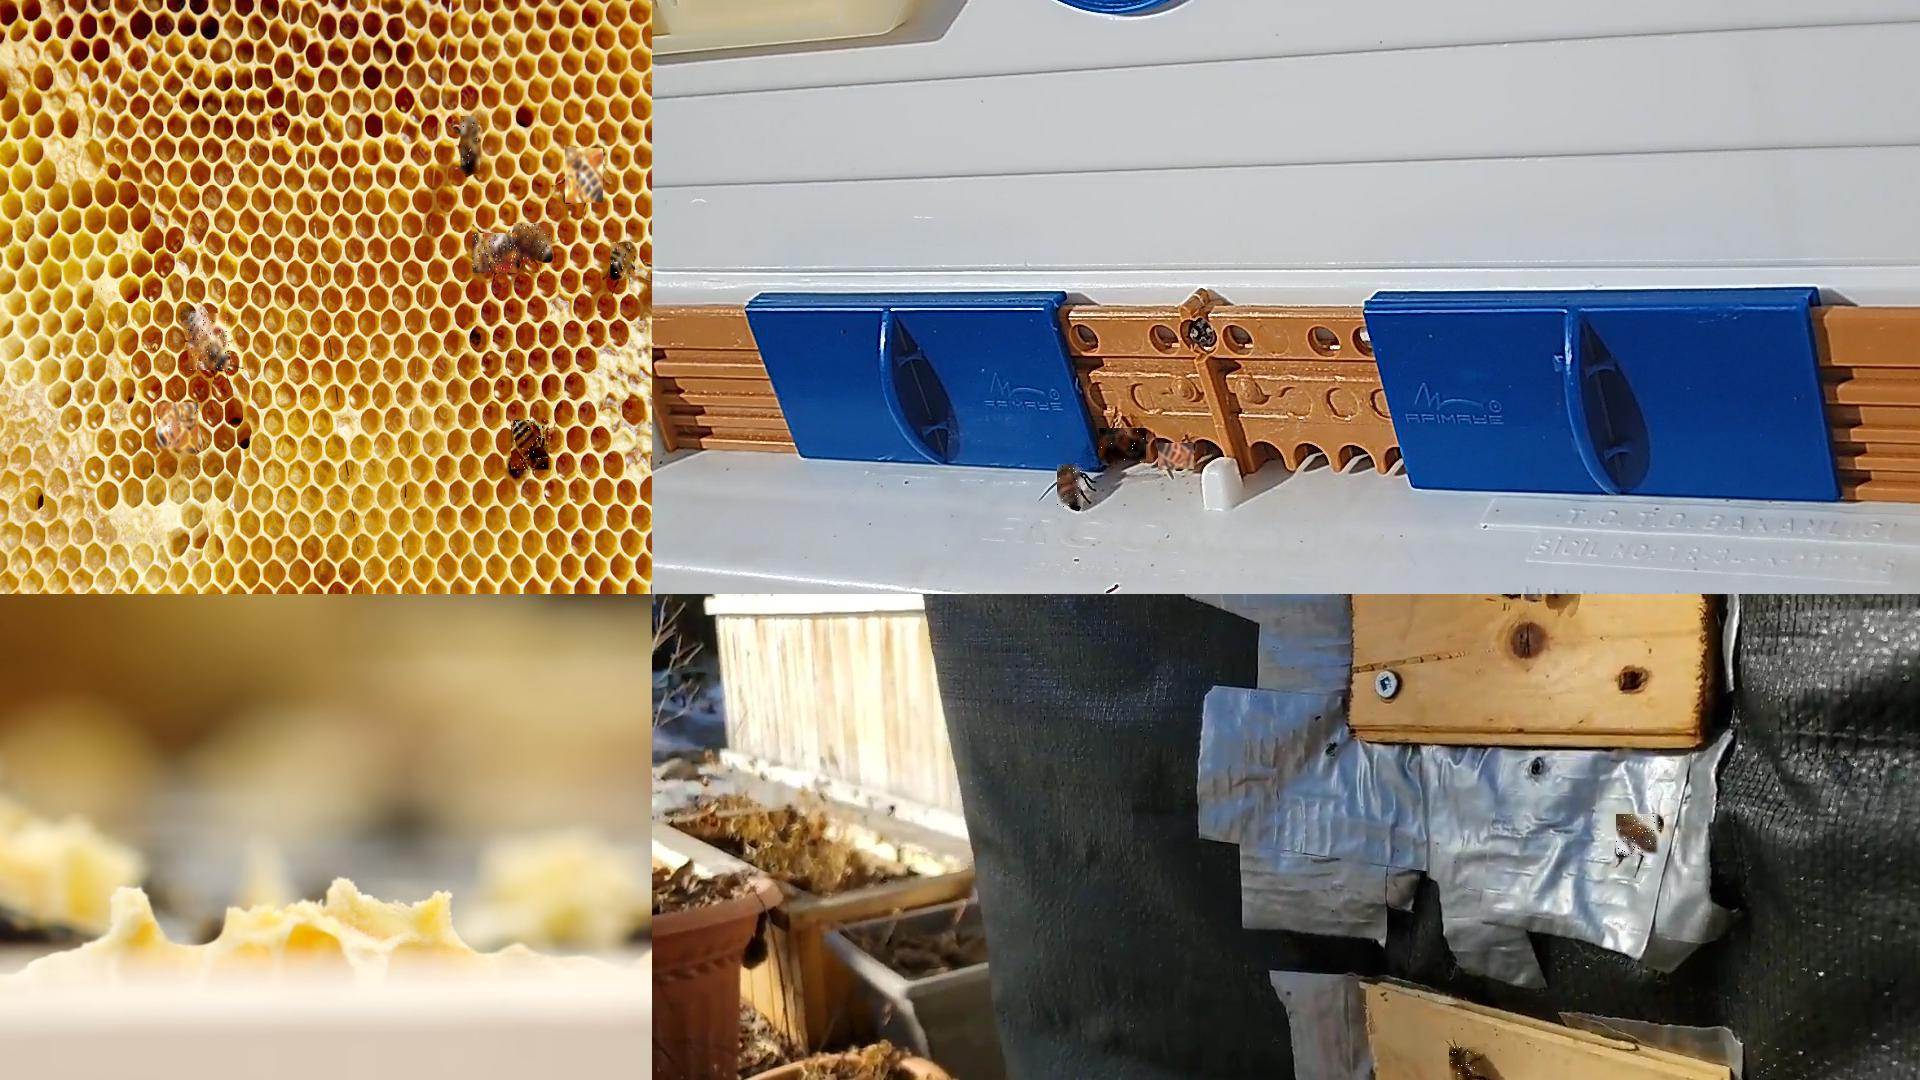bee: (189, 314, 231, 372), (157, 404, 202, 454), (565, 148, 604, 204), (511, 421, 549, 475), (1617, 815, 1662, 858), (473, 233, 520, 274), (1099, 429, 1147, 464), (514, 223, 552, 262), (461, 116, 481, 175), (1058, 465, 1084, 509), (1158, 443, 1195, 470), (1449, 1047, 1480, 1079), (611, 243, 635, 278)
